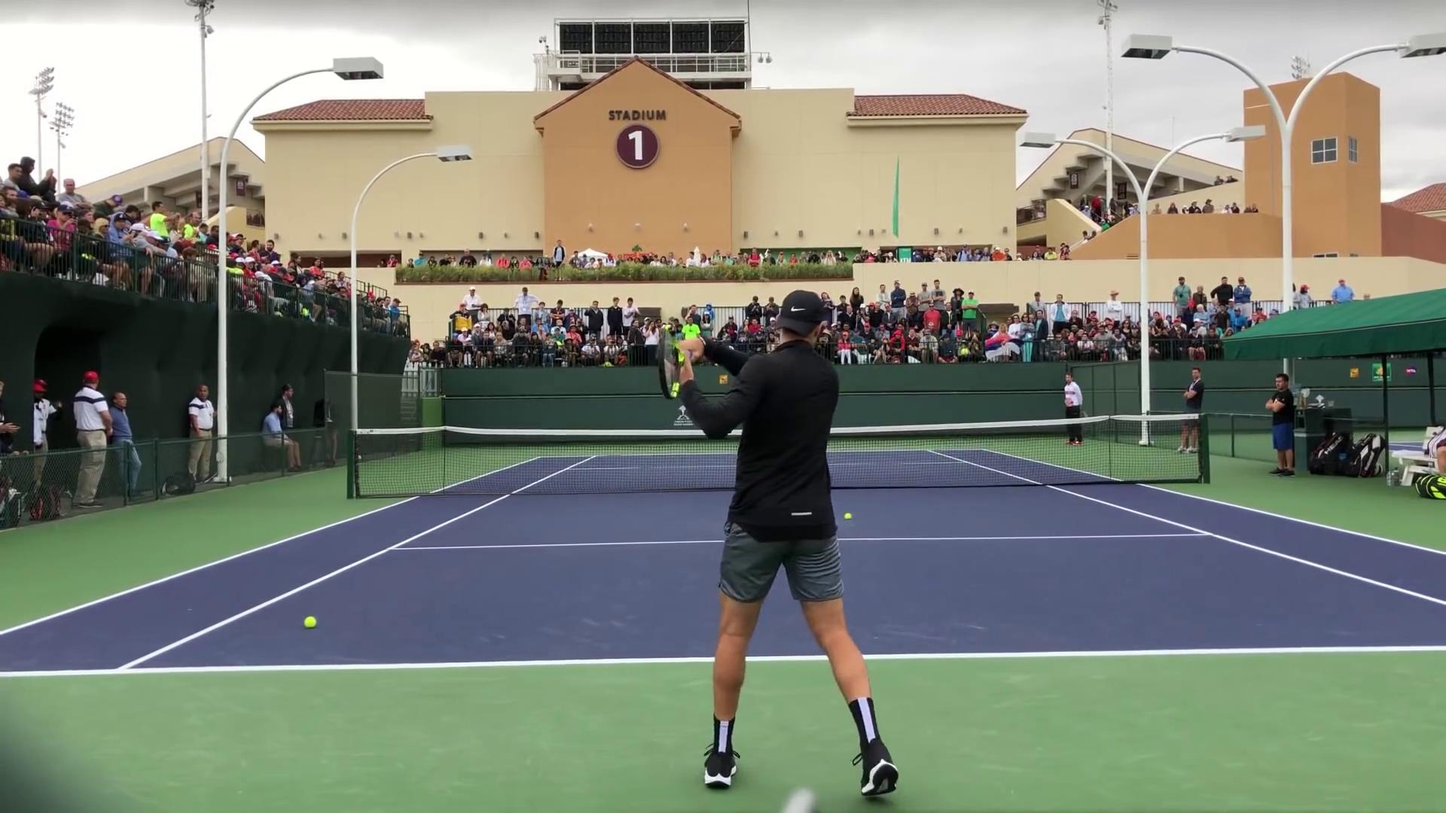ball: (304, 616, 316, 628), (845, 513, 852, 519)
